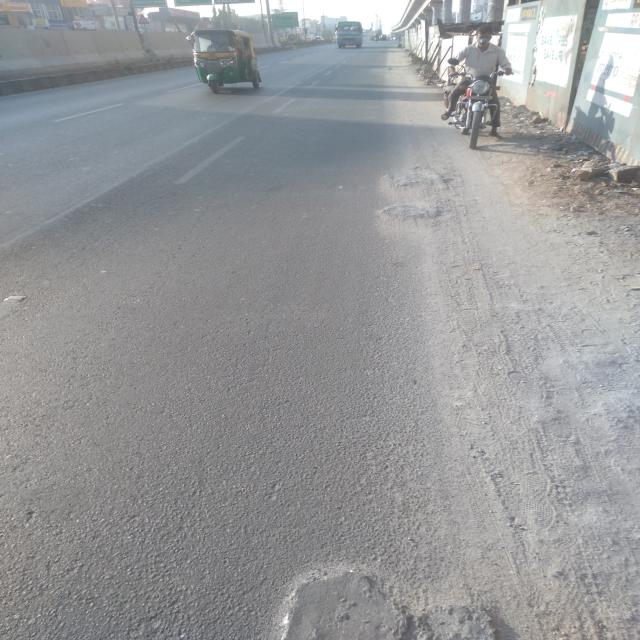Autorickshaw: (177, 23, 276, 97), (379, 35, 388, 42)
Bike: (440, 25, 519, 150), (373, 36, 379, 44)
Bus: (332, 19, 366, 50)
Car: (303, 36, 315, 42), (314, 36, 324, 40)
